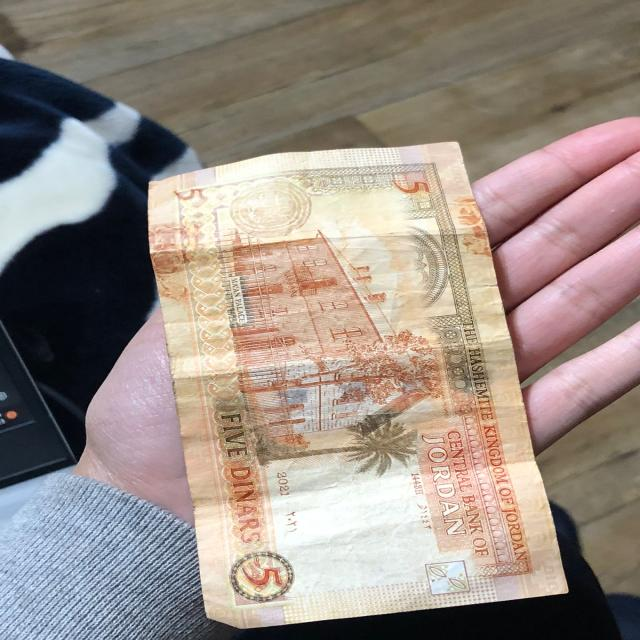5-dinar: (144, 140, 574, 631)
